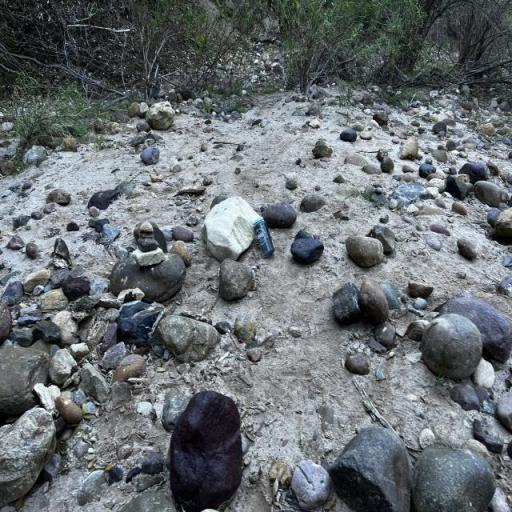bottle: (250, 216, 275, 258)
